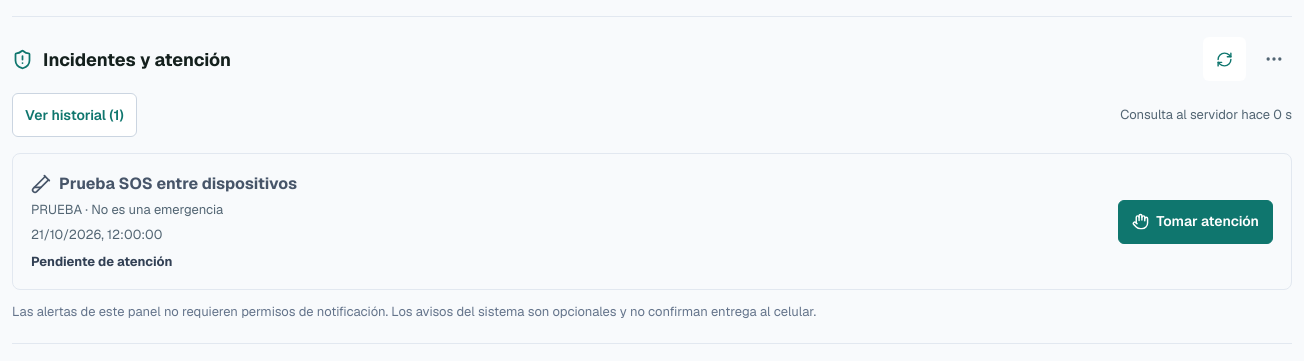
Test: failed refresh clears old actionable data
Expected: the button "Tomar atención" is shown, [1118,200,1273,244]
Click the button named "Consultar incidentes": (1224, 59) [1203,37,1246,81]
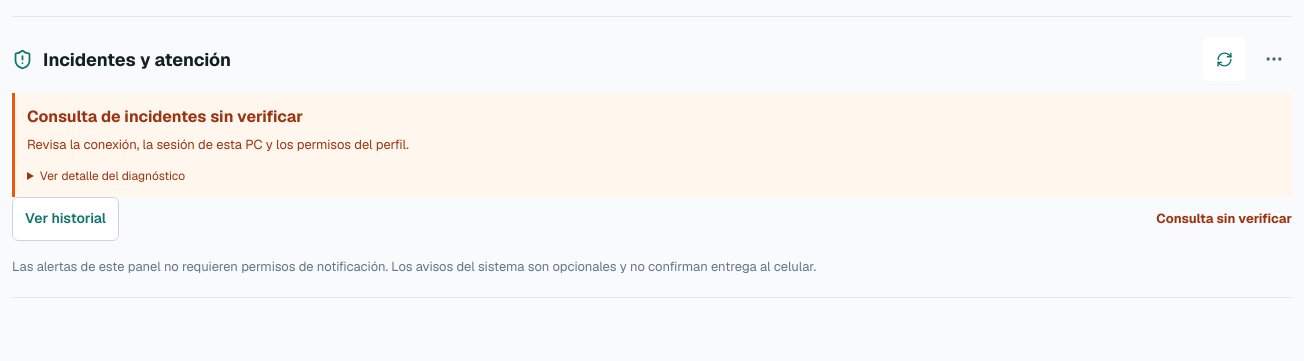
Result: the message that starts with "Consulta de incidentes sin verificar" is shown at [12,93,1292,196]
Result: the button "Tomar atención" is gone
